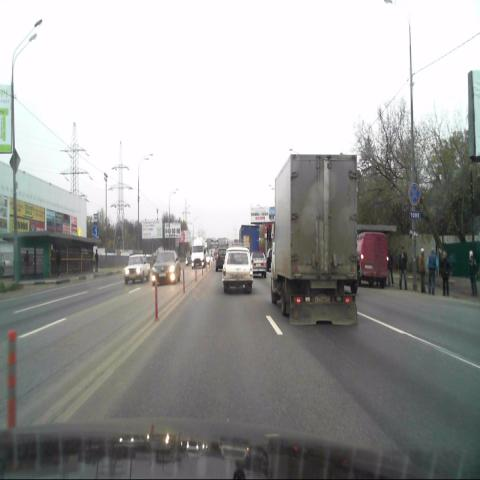3_27: (409, 183, 421, 206)
6_6: (92, 225, 99, 238)
